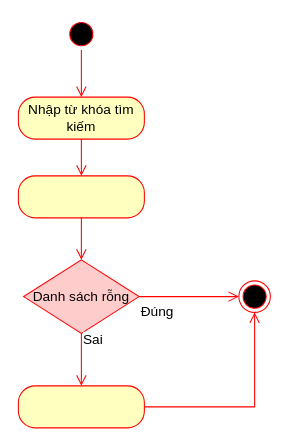
This 289x446 diagram has some shape labels left out. Here are the shapes that lost their labels. From the top down, the centre of each, then its label:
At (80,196): "Lấy danh sách sản phẩm liên quan".
At (80,406): "Hiển thị danh sách kết quả tìm kiếm".
